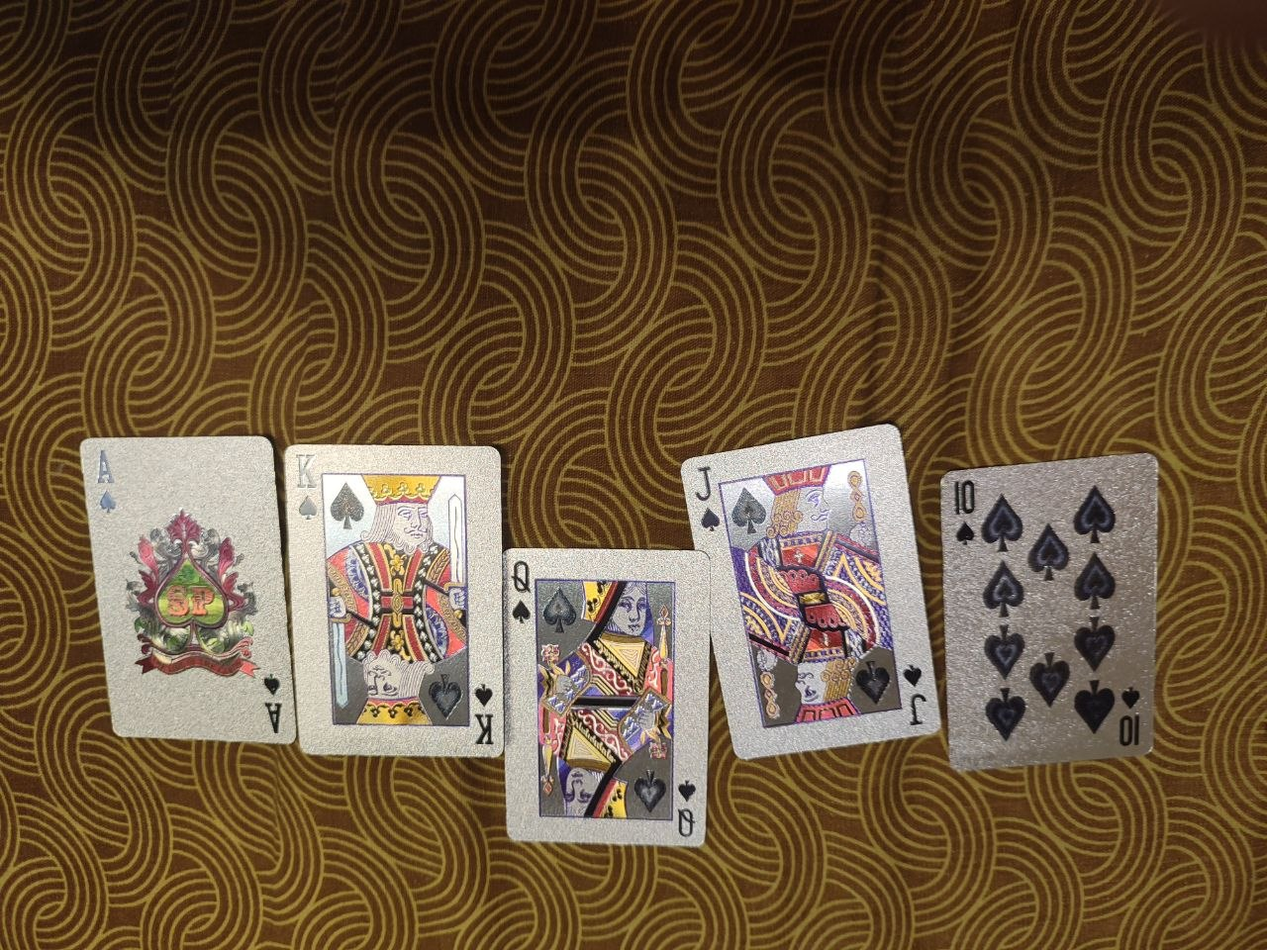10S: (939, 450, 1160, 770)
AS: (76, 433, 297, 745)
JS: (679, 422, 943, 761)
KS: (281, 442, 506, 759)
QS: (503, 545, 711, 848)
